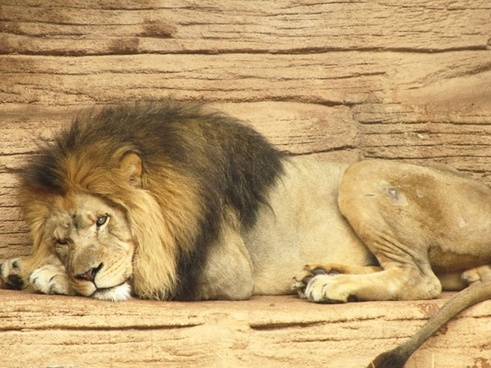lion: (16, 171, 177, 306)
